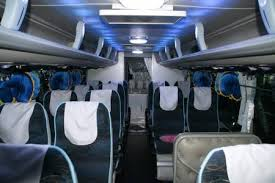seat: (56, 101, 117, 180)
